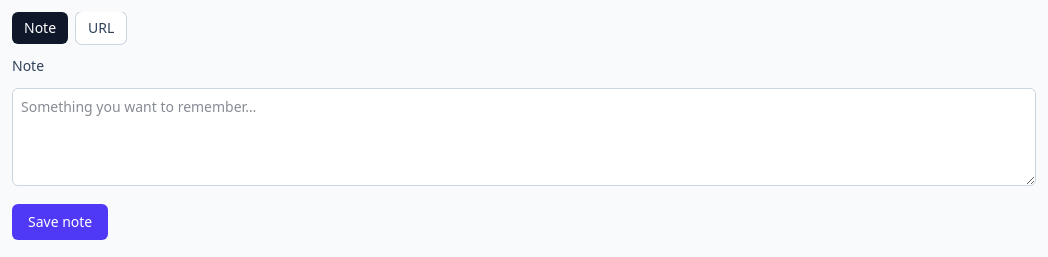
AddItemForm › shows the server error message when saving fails
This screenshot has width=1048, height=257.
Click the tab "URL" at (101, 28), box [76, 12, 126, 44]
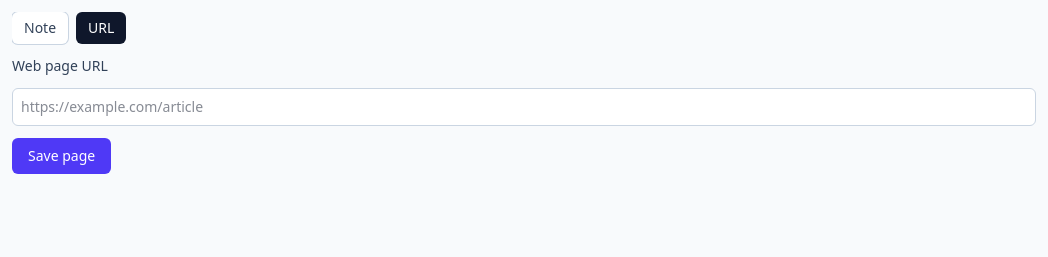
Type "https://example.com" into the field labelled "Web page URL" at (524, 107), box [12, 88, 1036, 126]
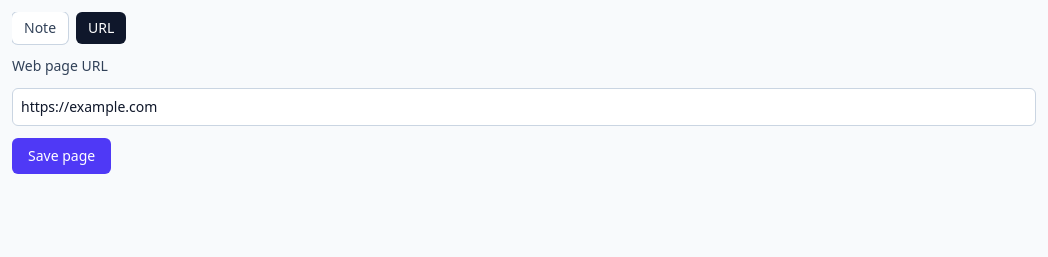
Click the button "Save page" at (62, 156), box [12, 138, 111, 174]
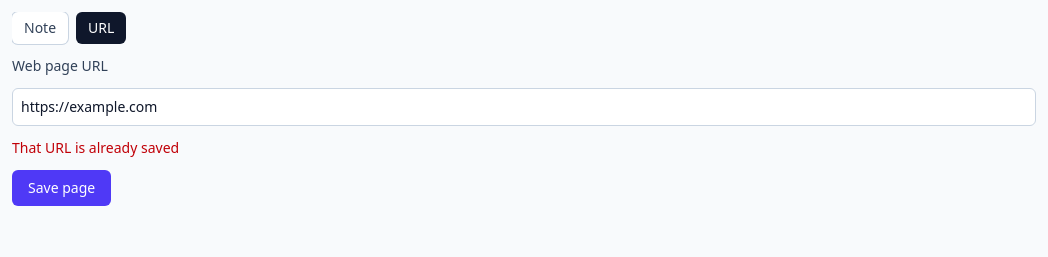
Result: the message shows "already saved" at [12, 138, 179, 157]
